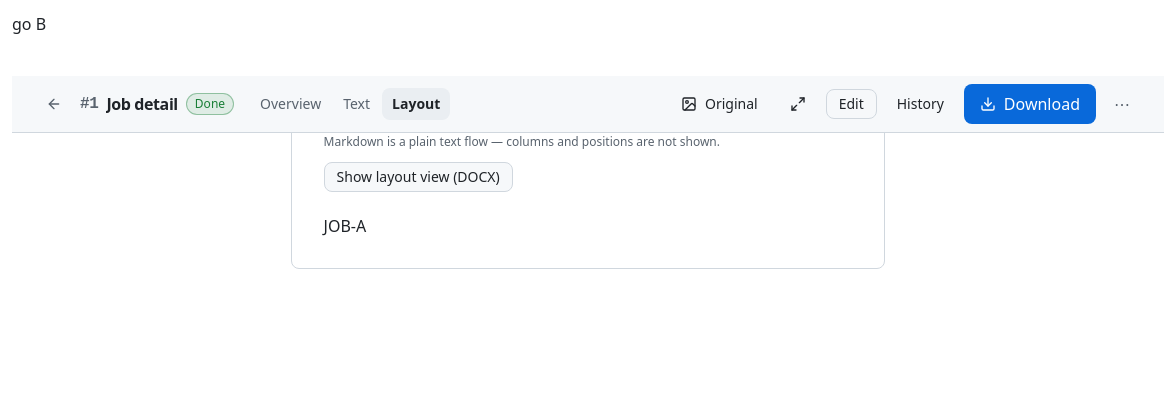
Scenario: U1 P0: navigate A→B → getJob id=2, preview shows B (không html A), history panel reset
This screenshot has width=1164, height=396.
Expected: the element with test id "preview-md" shows "JOB-A", [324,215,366,237]
# Mở panel lịch sử trên job A — JobDetail states không remount khi đổi id.
What coordinates should you click on to do the following:
click the button with test id "btn-version-history"
I would click on:
 (920, 104)
Its box is [885,90,956,118].
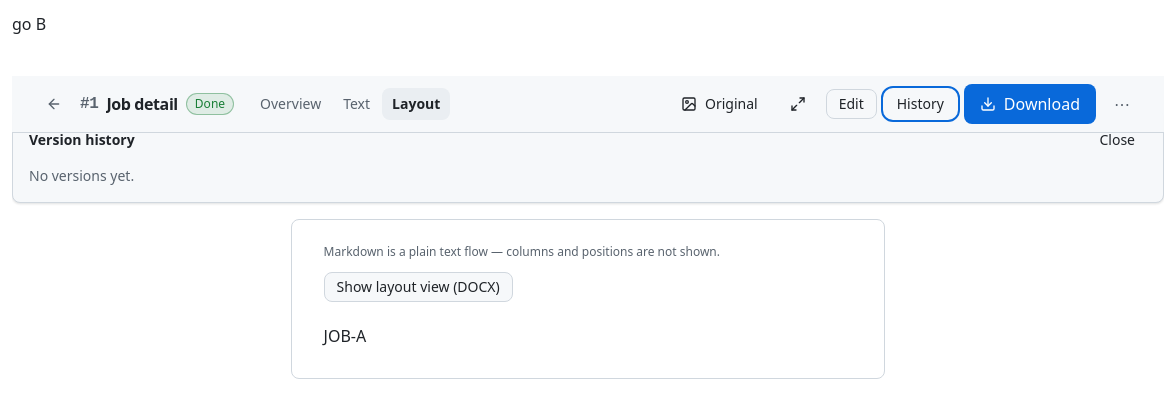
Expected: the element with test id "version-history" is shown, [12,109,1163,203]
What coordinates should you click on to do the following:
click the link with test id "nav-b"
I would click on:
 (29, 24)
Its box is [12,13,46,35].
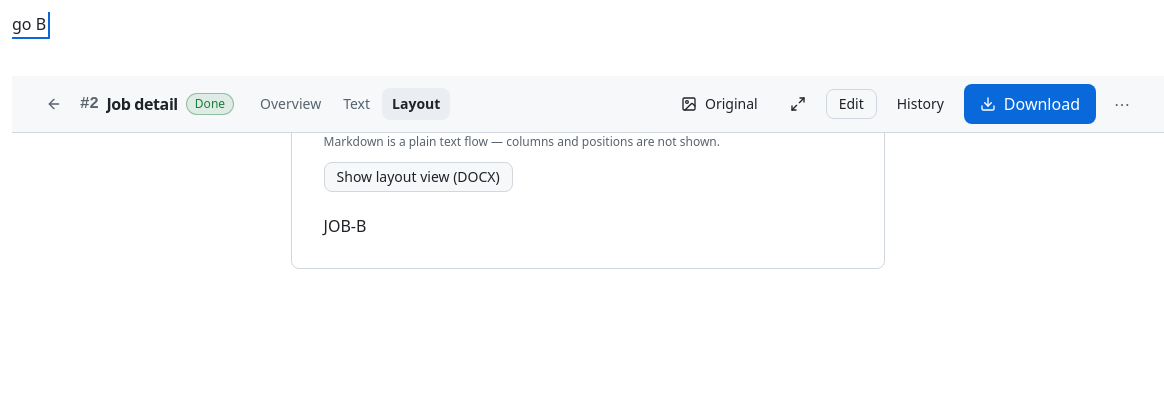
Expected: the element with test id "preview-md" shows "JOB-B", [324,215,366,237]
Expected: the element with test id "preview-md" no longer shows "JOB-A", [291,109,886,269]
Expected: the element with test id "version-history" is gone
